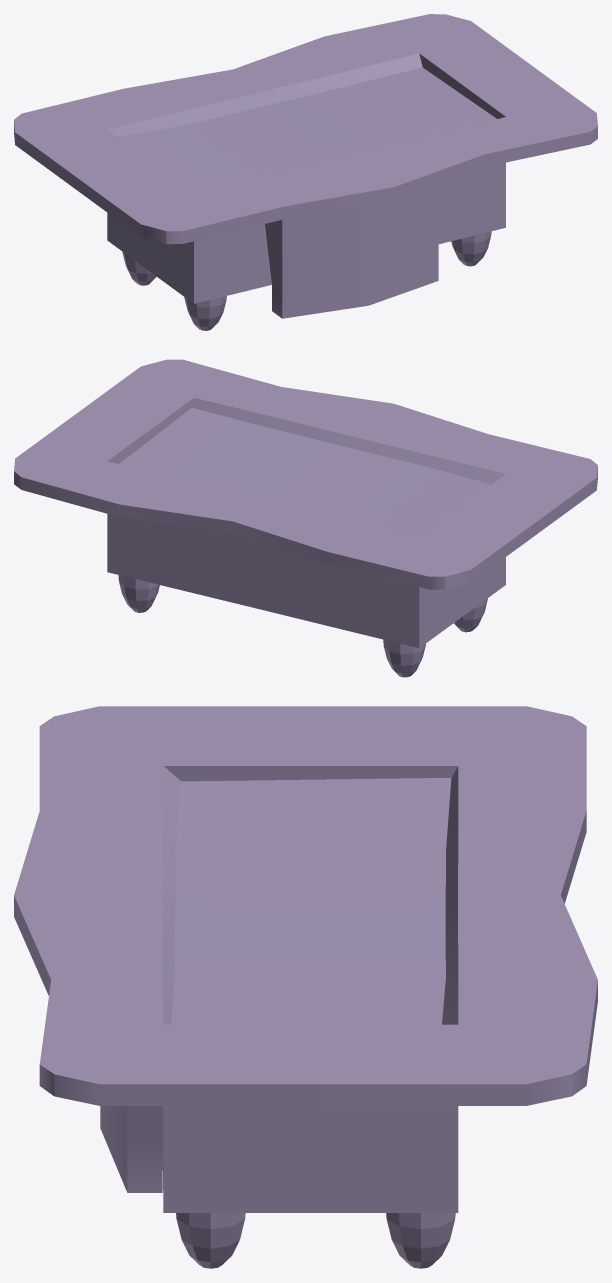
The model's file is Table.fbx.
3 renders of one model, top to bottom at view 1: azimuth 30°, elevation 25°; view 2: azimuth 150°, elevation 25°; view 3: azimuth 270°, elevation 25°, orthographic. The views are drawn at different scales.
Visible parts, largest first — view 1: pCube5; view 2: pCube5; view 3: pCube5.
Part boxes in pixels (box(x1,y1,x2,y2)): pCube5: box(14, 14, 597, 330); pCube5: box(14, 359, 597, 677); pCube5: box(14, 706, 597, 1268).
Size of the model in its own units: 17.57 by 5.66 by 11.47.
